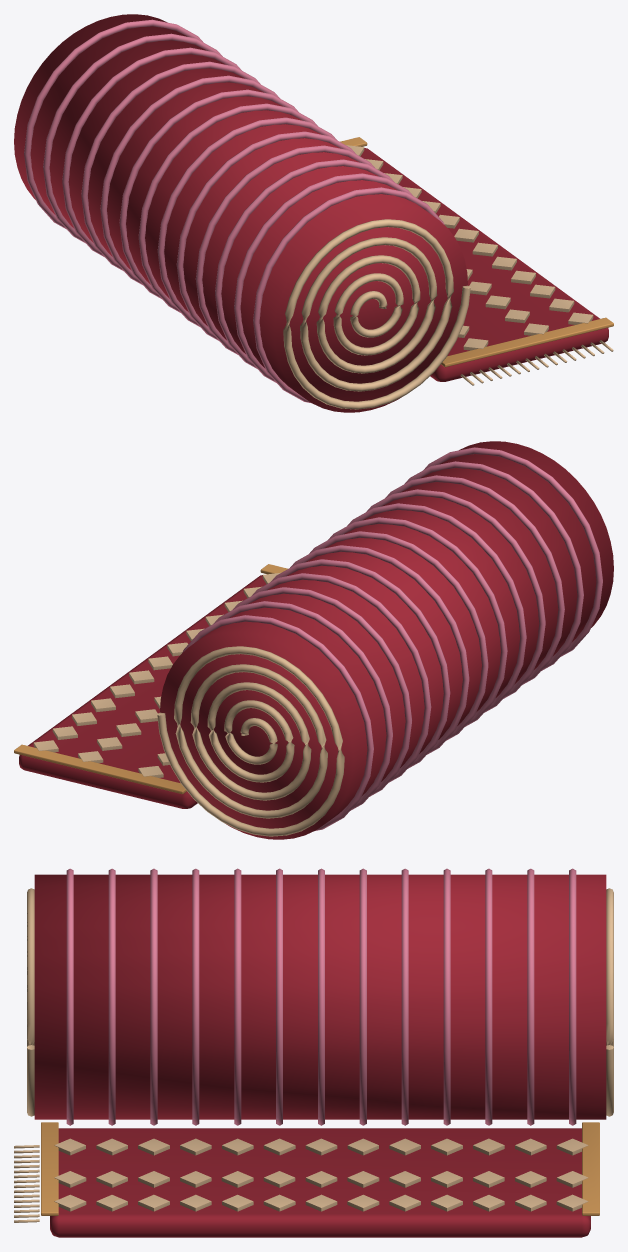
3 renders of one model, top to bottom at view 1: azimuth 30°, elevation 25°; view 2: azimuth 150°, elevation 25°; view 3: azimuth 270°, elevation 25°, orthographic. The views are drawn at different scales.
Visible parts, largest first — view 1: rolledCarpet_pal_redDark, rolledCarpet_pal_cardiganRose, rolledCarpet_pal_canvasTan, root_pal_redDark, root_pal_canvasTan, root_pal_brass; view 2: rolledCarpet_pal_redDark, rolledCarpet_pal_cardiganRose, rolledCarpet_pal_canvasTan, root_pal_redDark, root_pal_canvasTan, root_pal_brass; view 3: rolledCarpet_pal_redDark, root_pal_redDark, rolledCarpet_pal_cardiganRose, root_pal_canvasTan, rolledCarpet_pal_canvasTan, root_pal_brass.
Boxes of the visible parts, <box> form: rolledCarpet_pal_redDark: <box>14,14,467,412</box>; rolledCarpet_pal_cardiganRose: <box>24,19,444,403</box>; rolledCarpet_pal_canvasTan: <box>283,219,470,409</box>; root_pal_redDark: <box>360,148,608,381</box>; root_pal_canvasTan: <box>346,145,613,385</box>; root_pal_brass: <box>340,137,613,367</box>; rolledCarpet_pal_redDark: <box>160,441,613,839</box>; rolledCarpet_pal_cardiganRose: <box>182,447,602,830</box>; rolledCarpet_pal_canvasTan: <box>157,646,344,836</box>; root_pal_redDark: <box>19,575,266,808</box>; root_pal_canvasTan: <box>33,572,280,777</box>; root_pal_brass: <box>14,564,288,794</box>; rolledCarpet_pal_redDark: <box>34,874,606,1119</box>; root_pal_redDark: <box>50,1128,590,1237</box>; rolledCarpet_pal_cardiganRose: <box>66,868,576,1125</box>; root_pal_canvasTan: <box>14,1138,588,1222</box>; rolledCarpet_pal_canvasTan: <box>27,888,613,1116</box>; root_pal_brass: <box>41,1122,599,1215</box>.
Bounding box in the file's own units: 0.8679 × 0.506 × 1.18.
